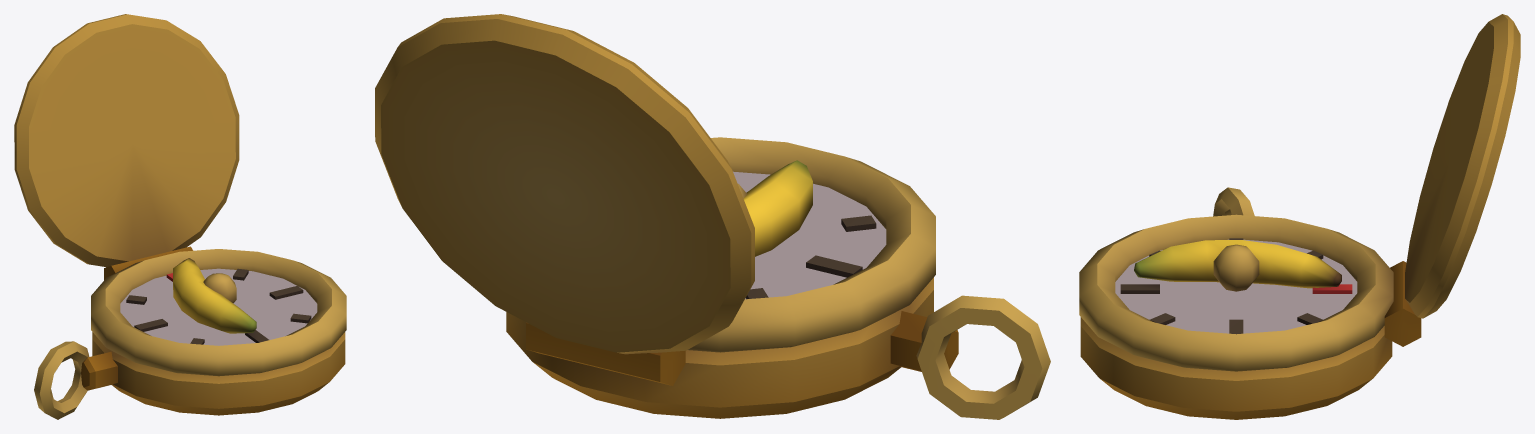
The model's file is compass.glb.
3 views of the same model, side by side, from view 1: azimuth 30°, elevation 25°; view 2: azimuth 150°, elevation 25°; view 3: azimuth 270°, elevation 25° (orthographic). The views are drawn at different scales.
Parts seen in each view (by area): view 1: compass; view 2: compass; view 3: compass.
Part boxes in pixels (bbox=[...]): compass: bbox=[14, 14, 346, 419]; compass: bbox=[375, 14, 1050, 419]; compass: bbox=[1079, 14, 1520, 419].
Size of the model in its own units: 0.151 by 0.1334 by 0.1563.
